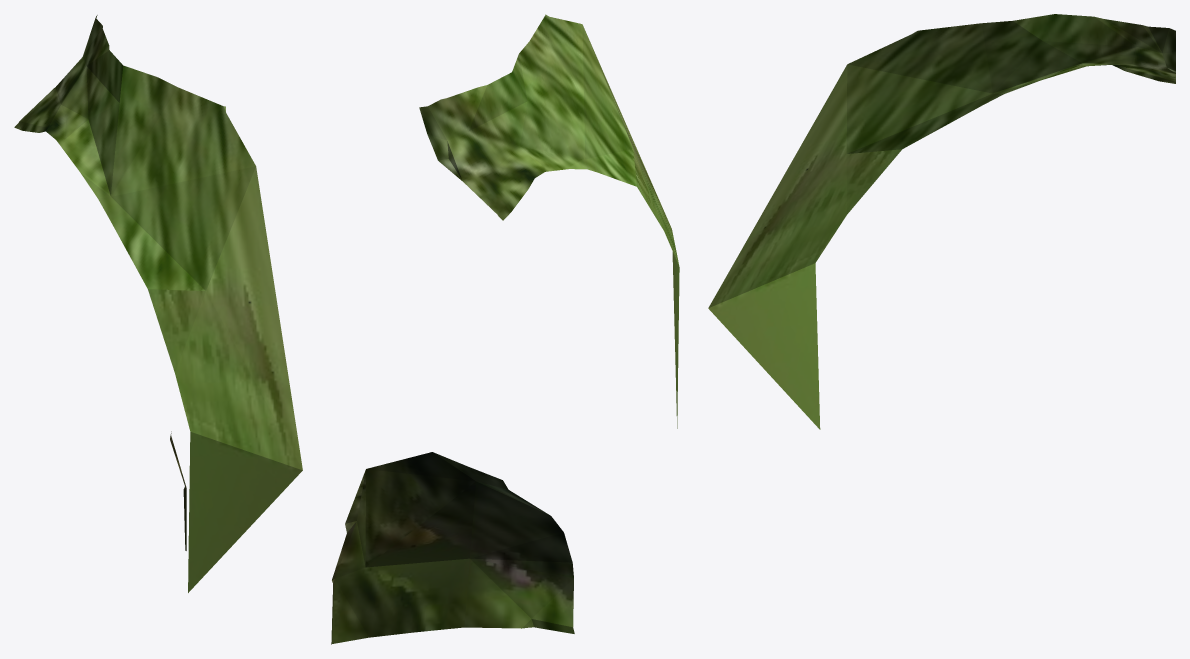
3 views of the same model, side by side, from view 1: azimuth 30°, elevation 25°; view 2: azimuth 150°, elevation 25°; view 3: azimuth 270°, elevation 25° (orthographic). The views are drawn at different scales.
Size of the model in its own units: 0.5391 by 1.67 by 1.24.
Materials: 1 (1 with a texture image).
